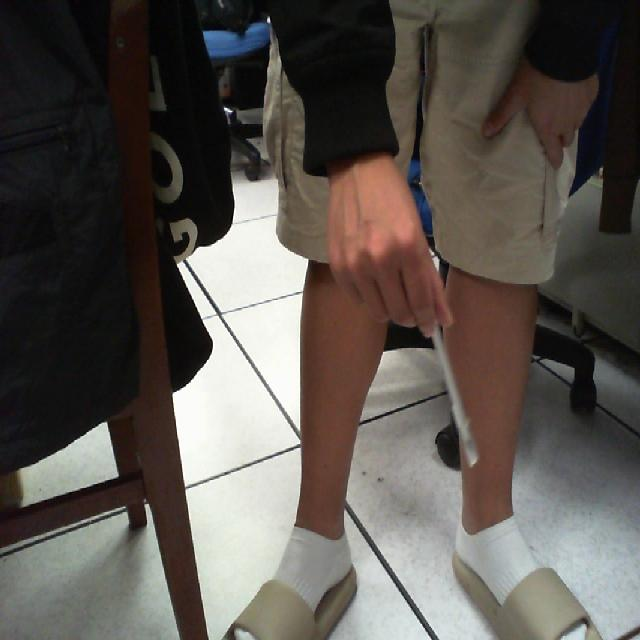Pen: (416, 299, 498, 507)
